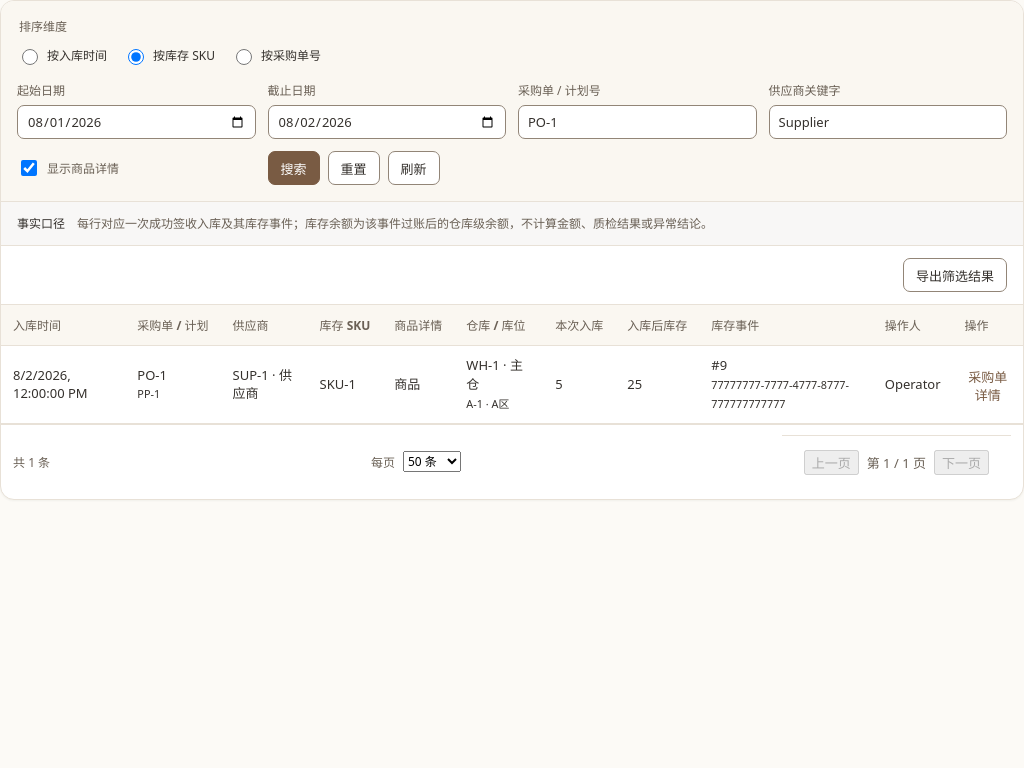
Test: procurement ledger page › downloads the current receipt filters and announces success
The image size is (1024, 768).
Click the button "导出筛选结果".
click(955, 275)  # box [903,258,1007,292]
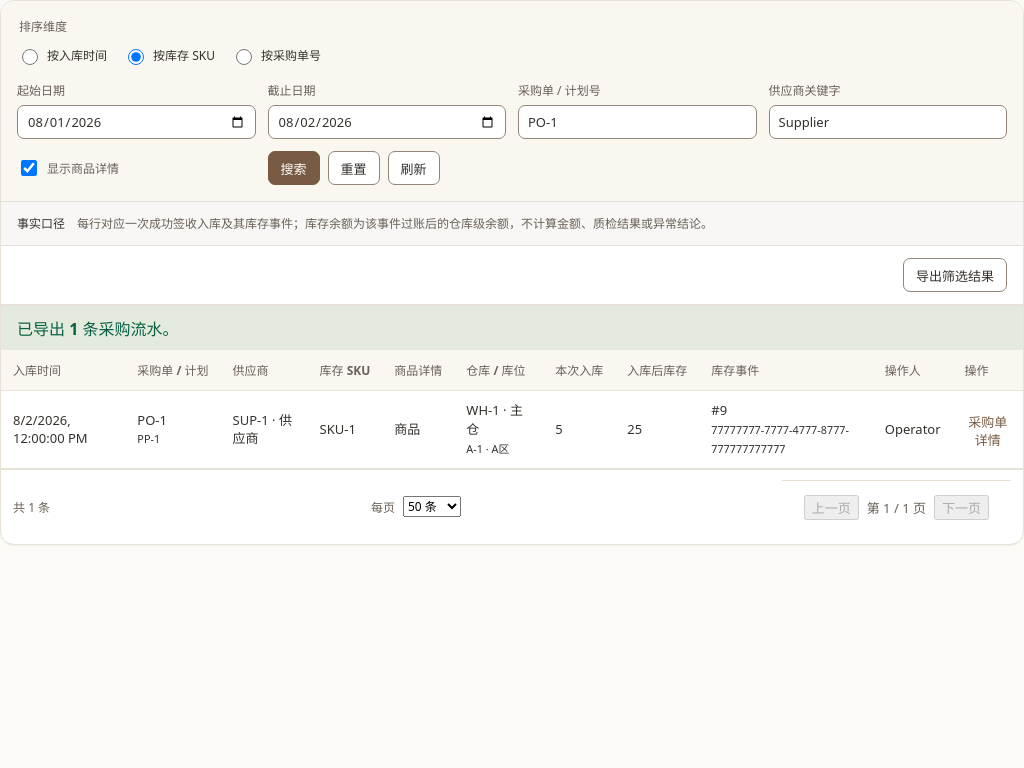
expect the text "已导出 1 条采购流水。" is shown: met, box [1,305,1023,350]
